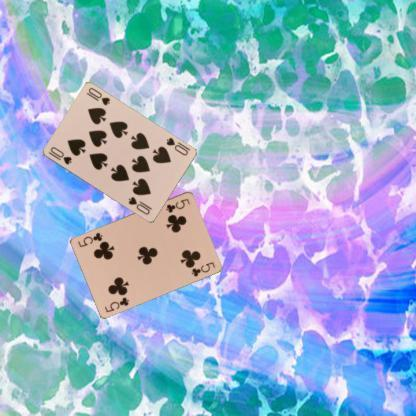10s: (46, 144, 72, 166), (163, 134, 189, 156)
5c: (102, 294, 131, 313), (164, 196, 192, 214)
